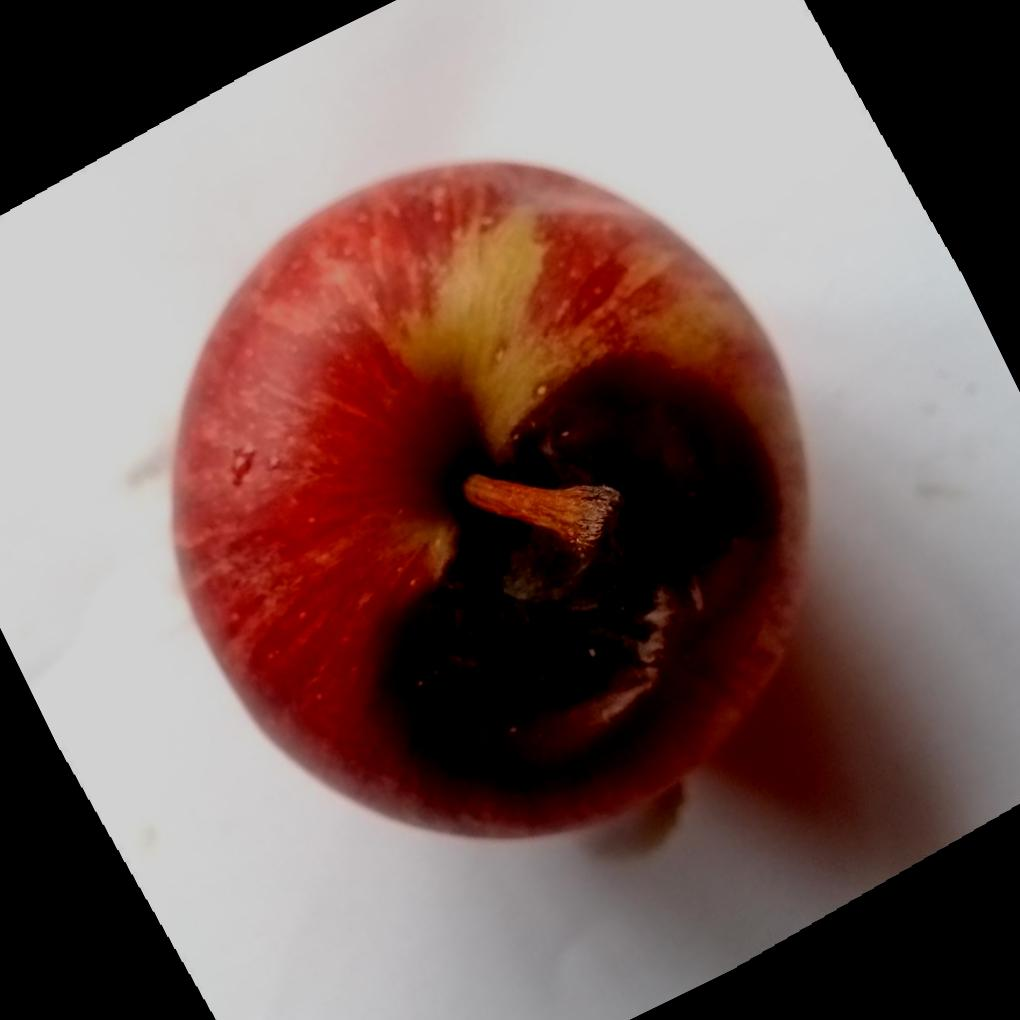FreshOrange: (170, 155, 816, 842)
